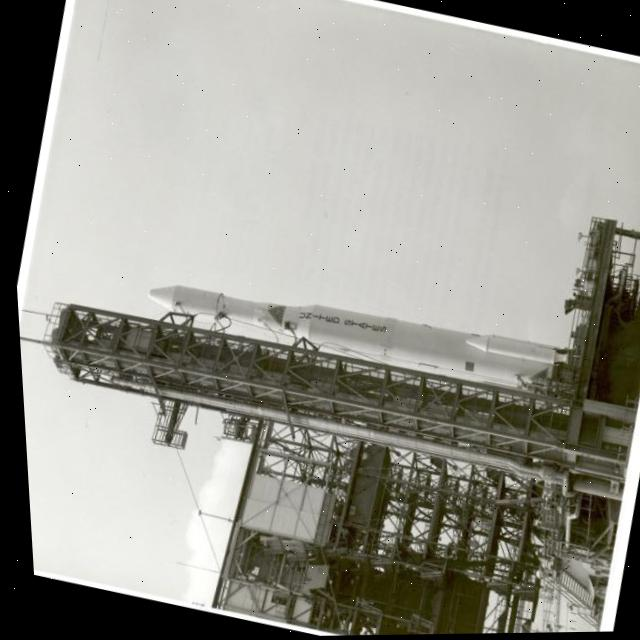missile: (138, 246, 588, 418)
